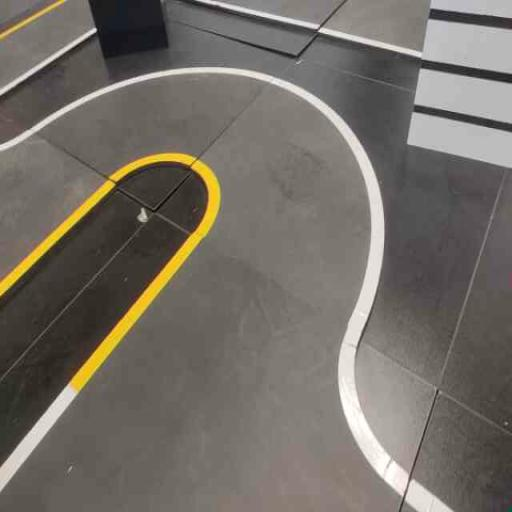left: (153, 52, 412, 354)
